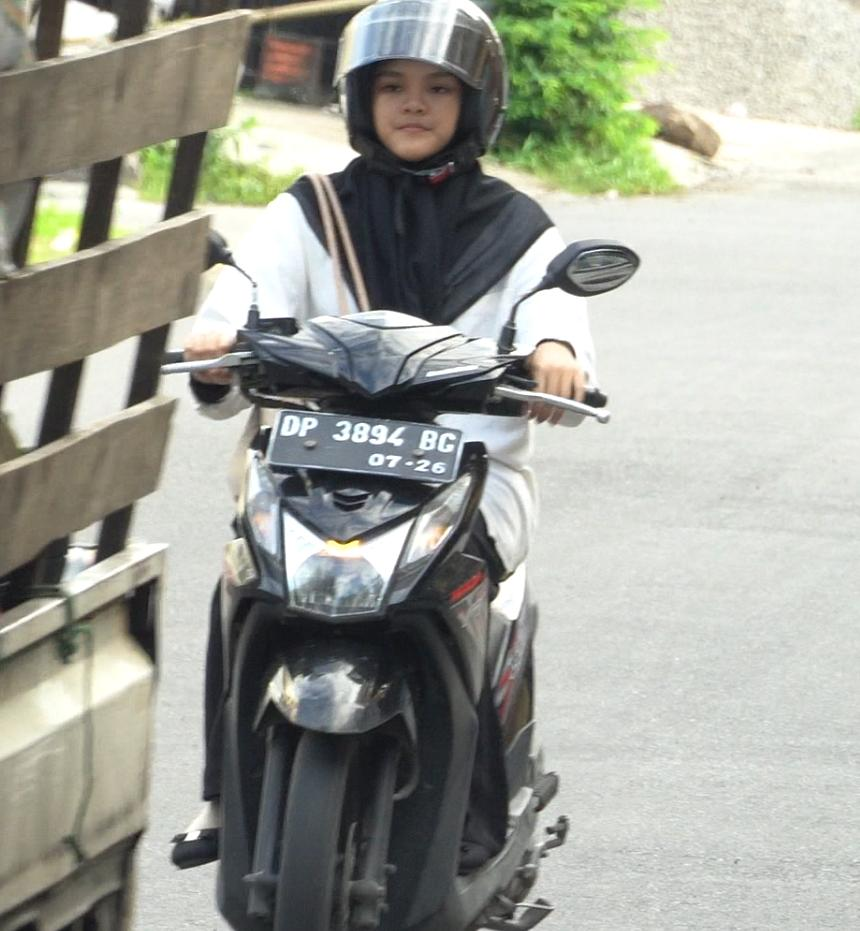number-plate: (266, 408, 464, 486)
